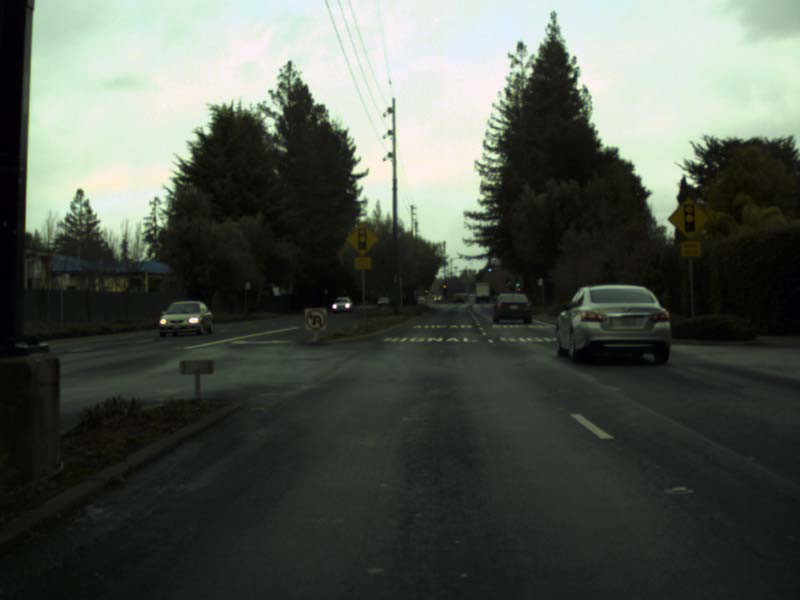Green: (514, 279, 519, 289), (487, 263, 491, 272), (506, 277, 510, 285)
Red: (424, 286, 428, 297), (442, 282, 446, 291)
